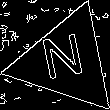N_S: (41, 33, 91, 90)
